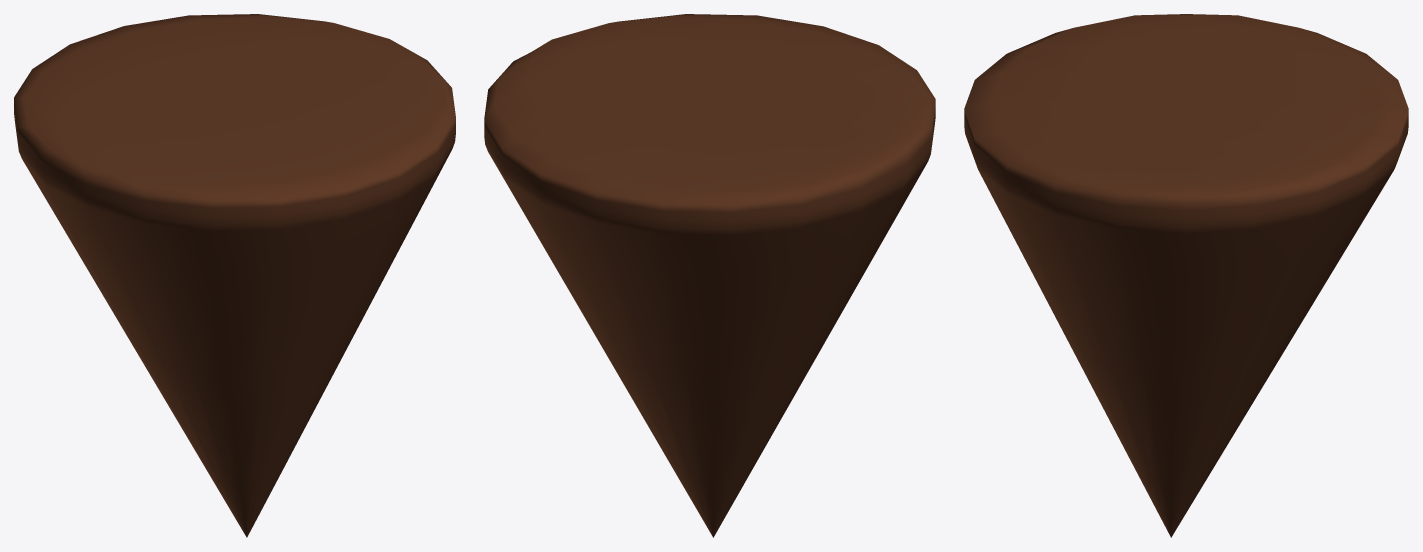
The model's file is Estalactita.fbx.
The picture shows the model from 3 angles, left to right: view 1: azimuth 30°, elevation 25°; view 2: azimuth 150°, elevation 25°; view 3: azimuth 270°, elevation 25°; orthographic projection. The views are drawn at different scales.
Visible parts, largest first — view 1: pCone3; view 2: pCone3; view 3: pCone3.
Boxes of the visible parts, box(x1,y1,x2,y2) form: pCone3: box(14, 14, 455, 537); pCone3: box(484, 14, 935, 537); pCone3: box(964, 14, 1408, 537).
Size of the model in its own units: 0.9526 by 1.03 by 0.9514.
